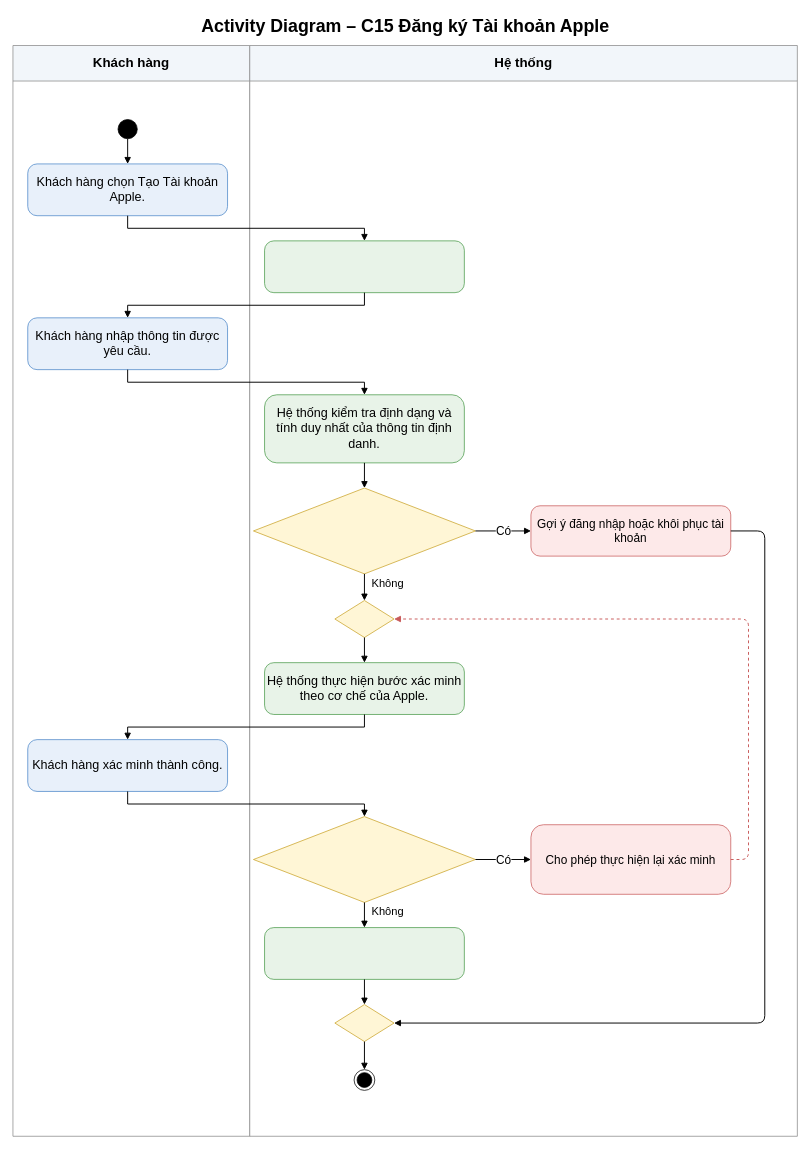
This 810x1149 diagram has some shape labels left out. Each missing label, with the centre of its shape:
"Hệ thống hiển thị biểu mẫu đăng ký." goes at point 364,266.
"Hệ thống tạo Tài khoản Apple." goes at point 364,953.
"Thông tin đã được sử dụng?" goes at point 364,530.
"Xác minh thất bại hoặc hết hạn?" goes at point 364,859.
